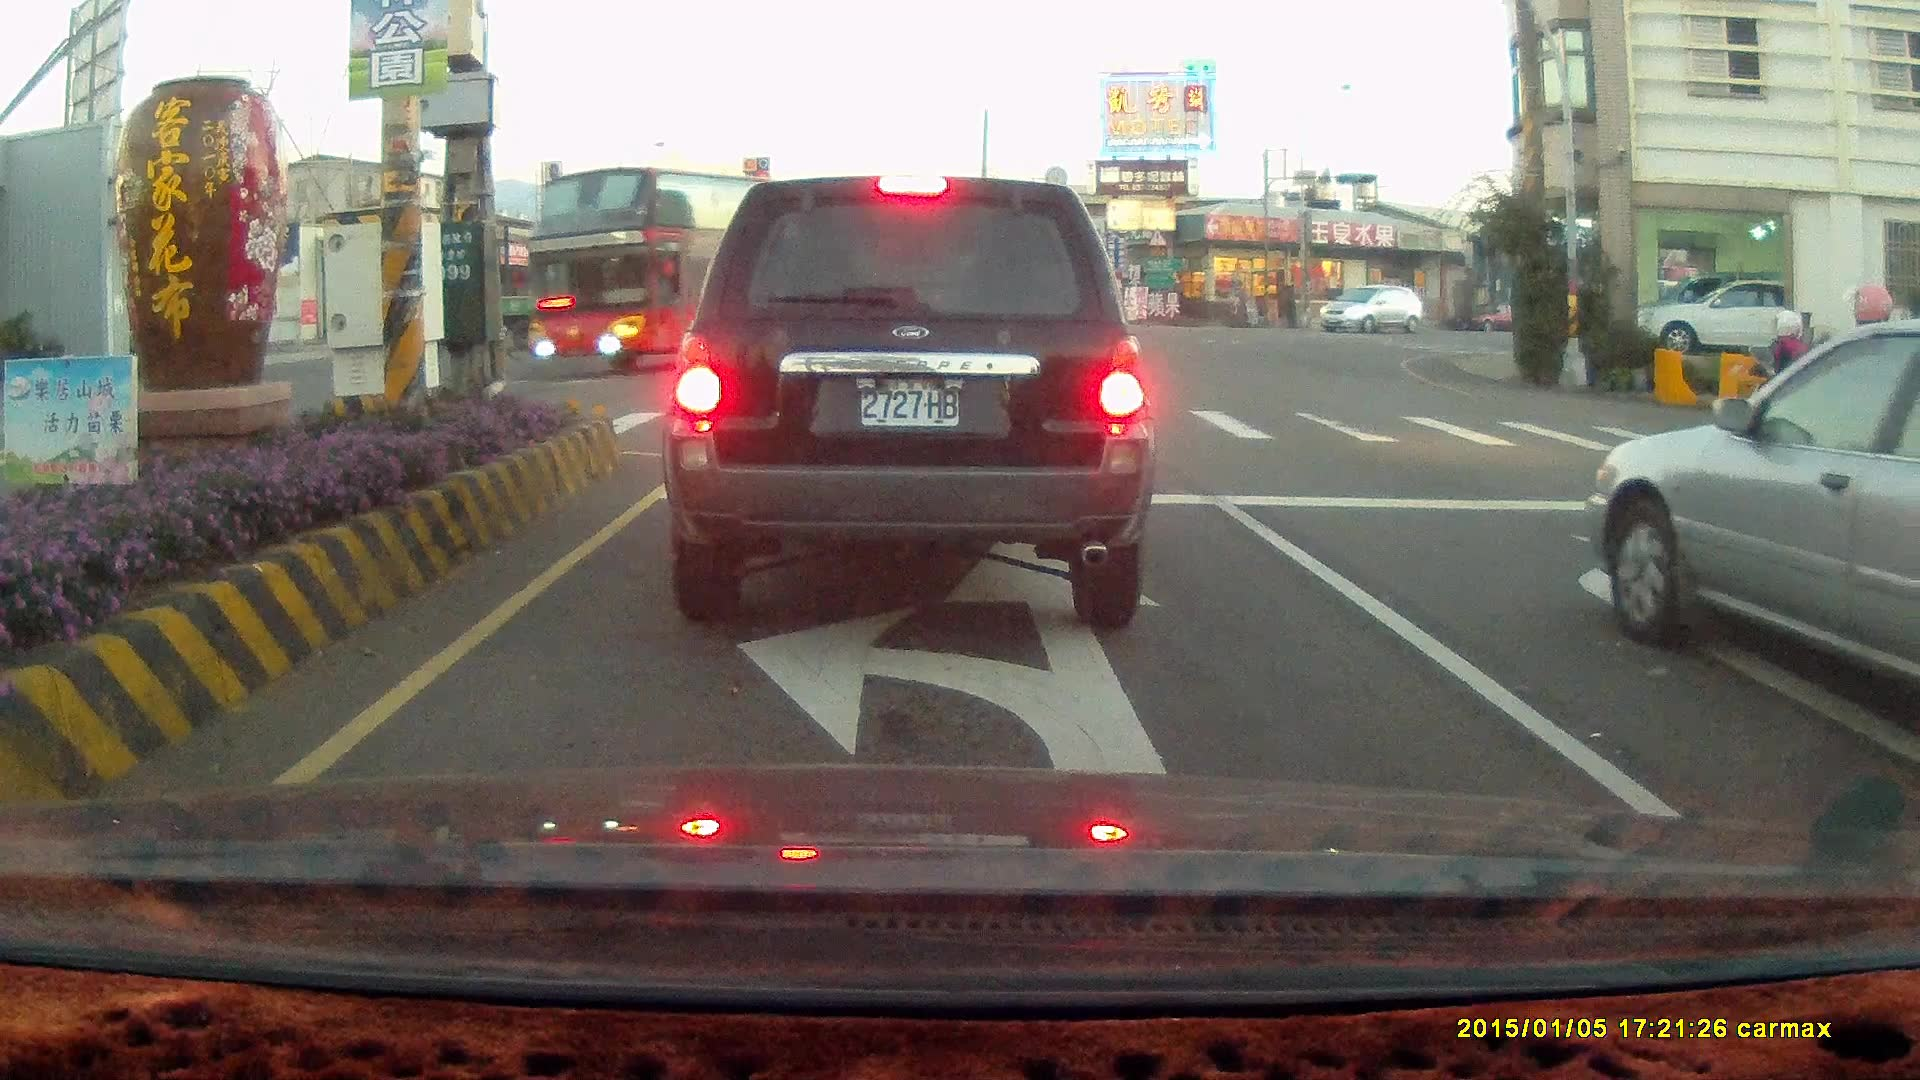rider: (1730, 307, 1823, 449)
vehicle: (658, 173, 1155, 630), (1579, 316, 1920, 732), (1589, 320, 1920, 703), (507, 254, 707, 347), (1629, 275, 1834, 359), (1642, 275, 1784, 356), (1896, 493, 1920, 836), (1317, 285, 1424, 340)
